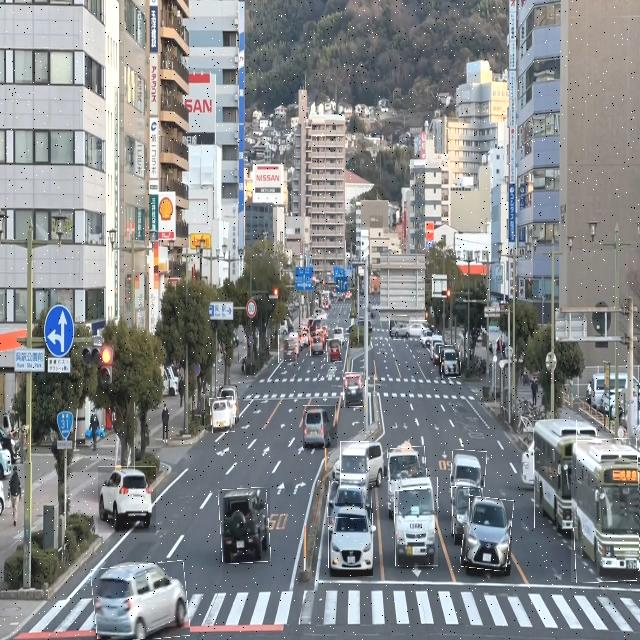Bus: (571, 438, 640, 582), (534, 420, 577, 528)
Car: (92, 562, 188, 640), (98, 466, 156, 533), (220, 488, 270, 564), (462, 497, 512, 570), (329, 503, 373, 577), (328, 482, 371, 518), (304, 405, 338, 448), (340, 441, 369, 488), (452, 449, 486, 488), (451, 479, 470, 534), (210, 397, 235, 432), (344, 373, 366, 407), (440, 346, 461, 378), (278, 335, 297, 363), (390, 316, 410, 340), (327, 339, 342, 362), (409, 320, 427, 339), (310, 336, 323, 358)
Truck: (395, 478, 438, 568), (388, 447, 427, 491)
